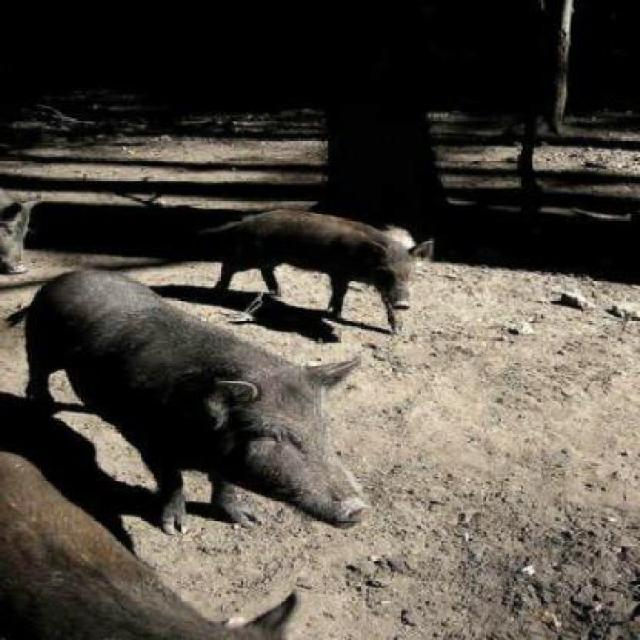Boar: (2, 282, 380, 564), (194, 226, 440, 322)
